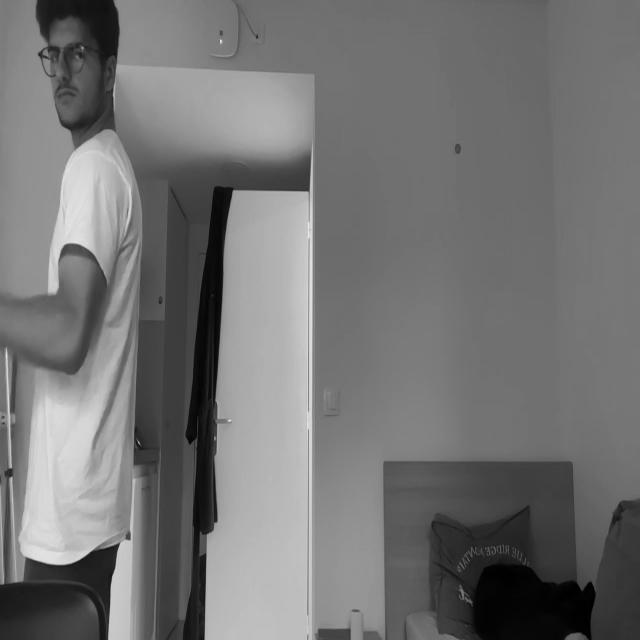elbow: (50, 290, 88, 374)
shoulder: (66, 150, 116, 251)
